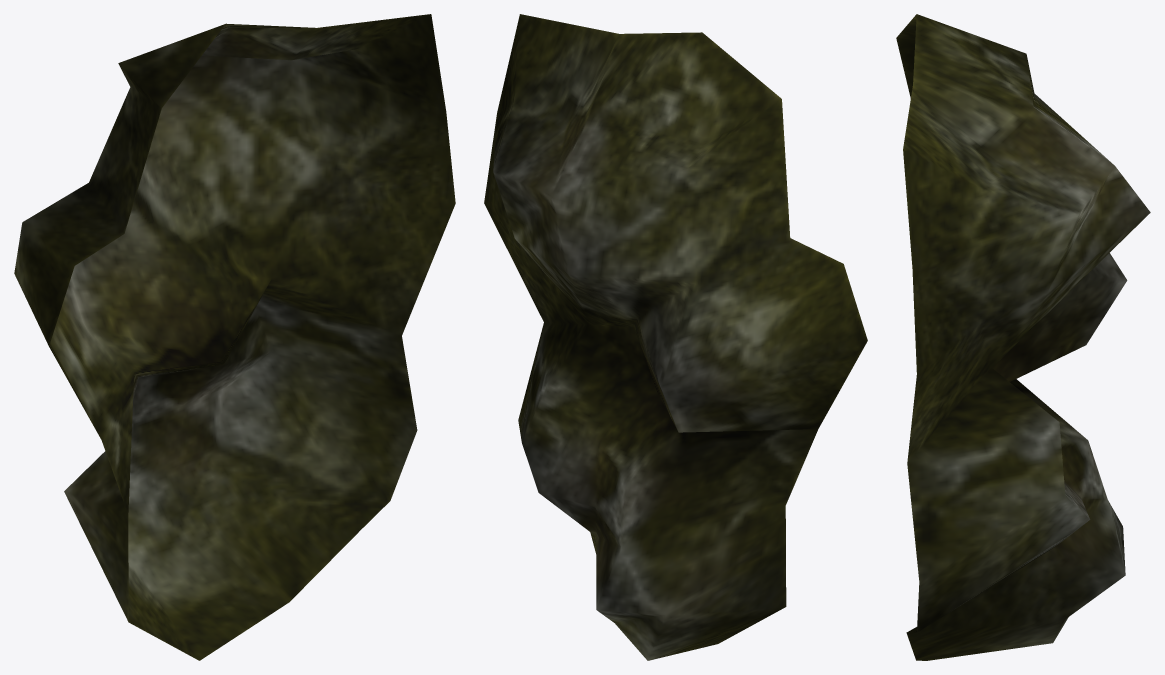
Rendered from MEP_GroundRocks_01_a.fbx.
The picture shows the model from 3 angles, left to right: view 1: azimuth 30°, elevation 25°; view 2: azimuth 150°, elevation 25°; view 3: azimuth 270°, elevation 25°; orthographic projection. The views are drawn at different scales.
Visible parts, largest first — view 1: MEP_GroundRock_01_a; view 2: MEP_GroundRock_01_a; view 3: MEP_GroundRock_01_a.
Boxes of the visible parts, x1,y1,x2,y2 form: MEP_GroundRock_01_a: [14, 14, 455, 660]; MEP_GroundRock_01_a: [484, 14, 867, 660]; MEP_GroundRock_01_a: [896, 14, 1150, 660].
Size of the model in its own units: 1.73 by 2.6 by 0.9104.
